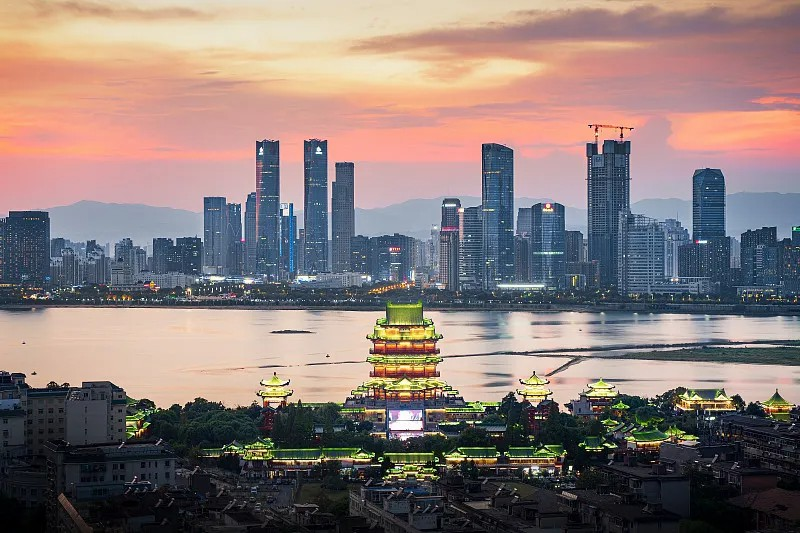Teng: (350, 300, 458, 402)
